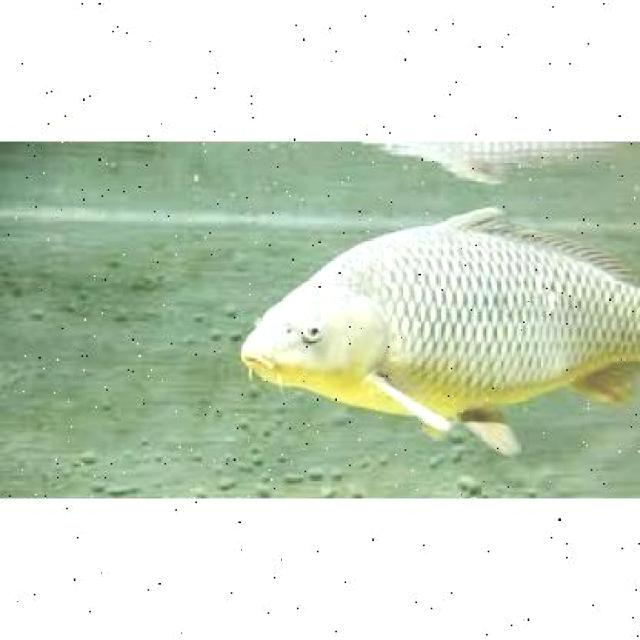ikan-mas: (242, 218, 638, 434)
